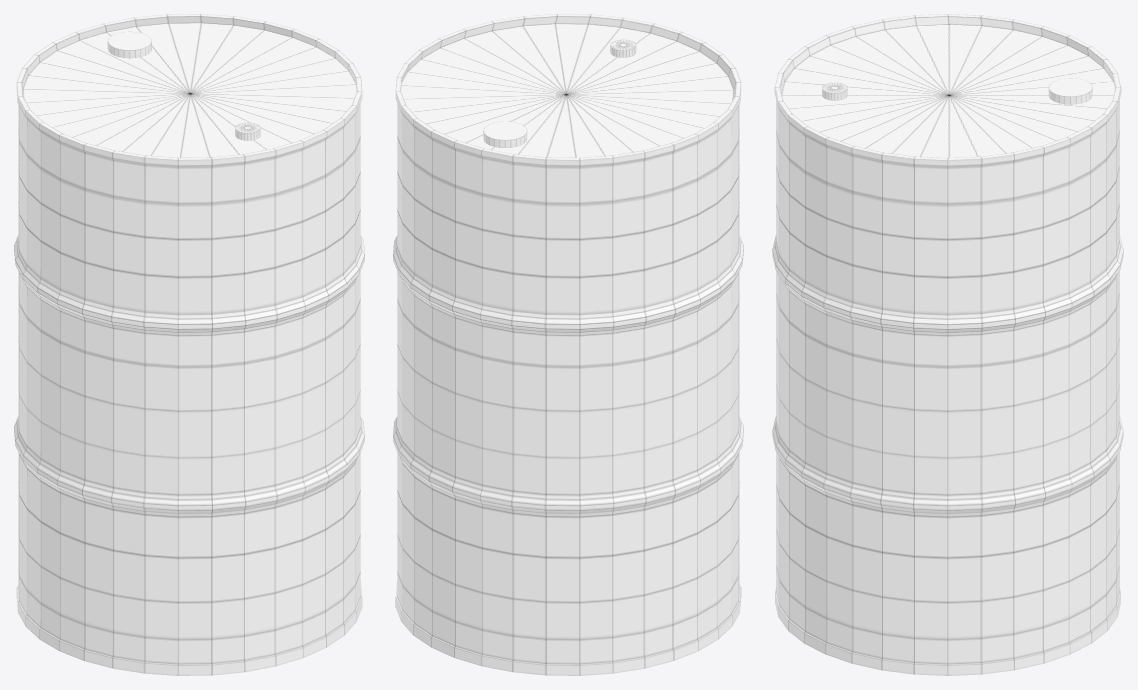
The model's file is Oil.glb.
The picture shows the model from 3 angles, left to right: view 1: azimuth 30°, elevation 25°; view 2: azimuth 150°, elevation 25°; view 3: azimuth 270°, elevation 25°; orthographic projection.
Visible parts, largest first — view 1: Barrel; view 2: Barrel; view 3: Barrel.
Boxes of the visible parts, box(x1,y1,x2,y2) form: Barrel: box(14, 14, 364, 675); Barrel: box(393, 14, 743, 675); Barrel: box(772, 14, 1123, 675).
Bounding box in the file's own units: 2.05 × 3.32 × 2.05.
Materials: 1 (1 with a texture image).
